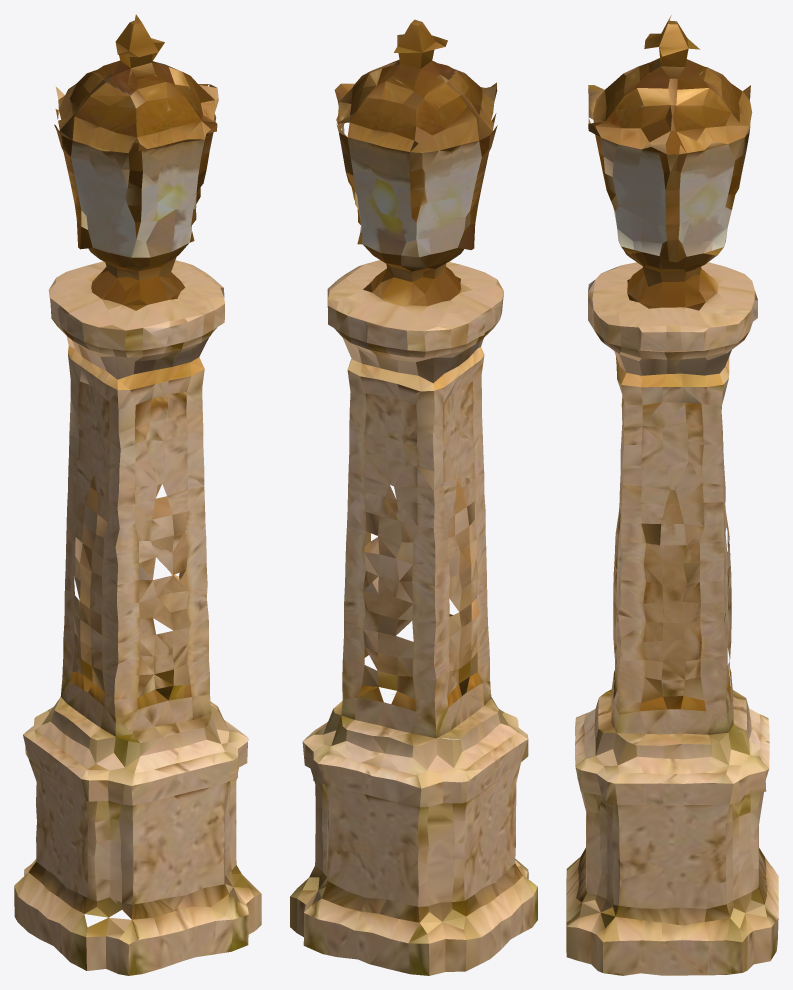
File: farol.glb
The picture shows the model from 3 angles, left to right: view 1: azimuth 30°, elevation 25°; view 2: azimuth 150°, elevation 25°; view 3: azimuth 270°, elevation 25°; orthographic projection.
Parts seen in each view (by area): view 1: mesh_0; view 2: mesh_0; view 3: mesh_0.
Boxes of the visible parts, x1,y1,x2,y2 form: mesh_0: (14, 14, 261, 975); mesh_0: (290, 19, 537, 975); mesh_0: (566, 15, 778, 975).
Size of the model in its own units: 0.3999 by 1.9 by 0.3989.
Materials: 1 (1 with a texture image).
